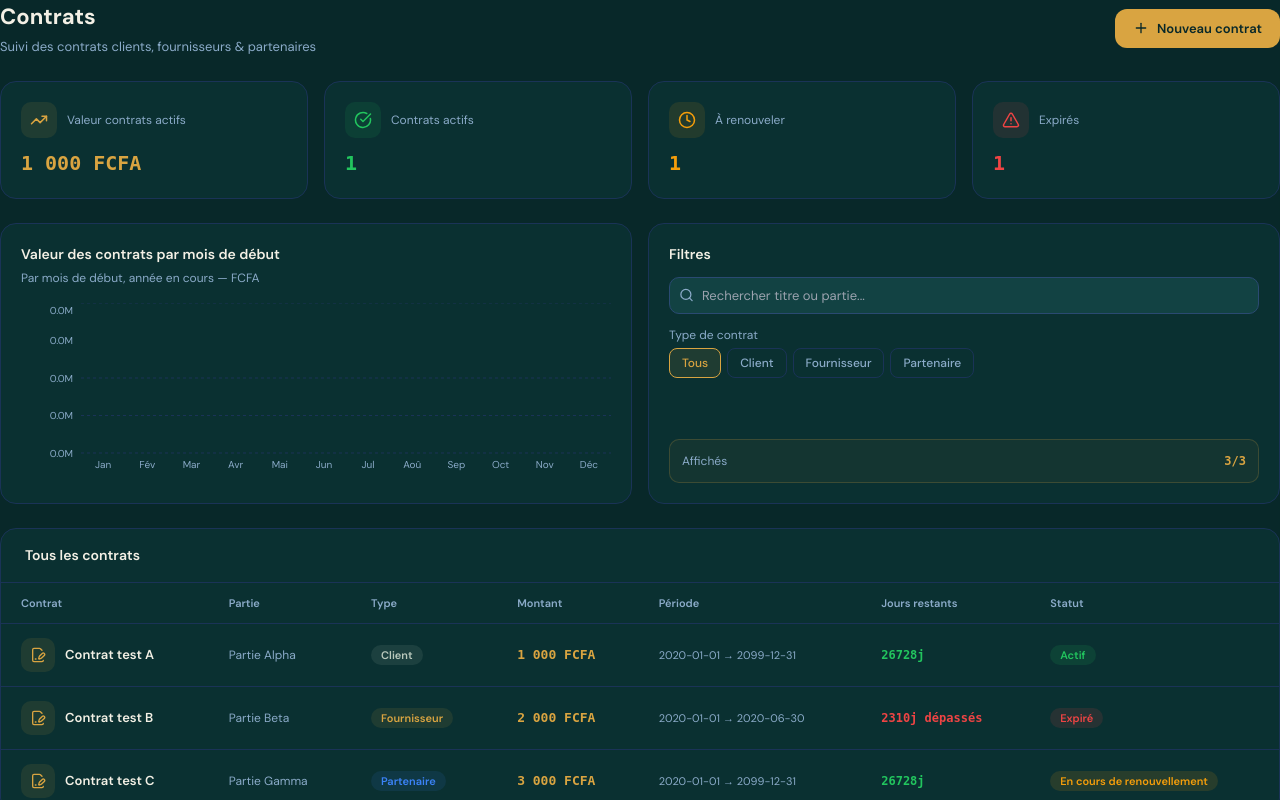
Test: ContratsPage › avec des contrats saisis › filtre par recherche
The image size is (1280, 800).
Expected: the text "Contrat test A" is shown, [65,645,154,665]
Type "gamma" into the field with placeholder "Rechercher titre ou partie..." at x=964, y=295, box [669,276,1259,314]
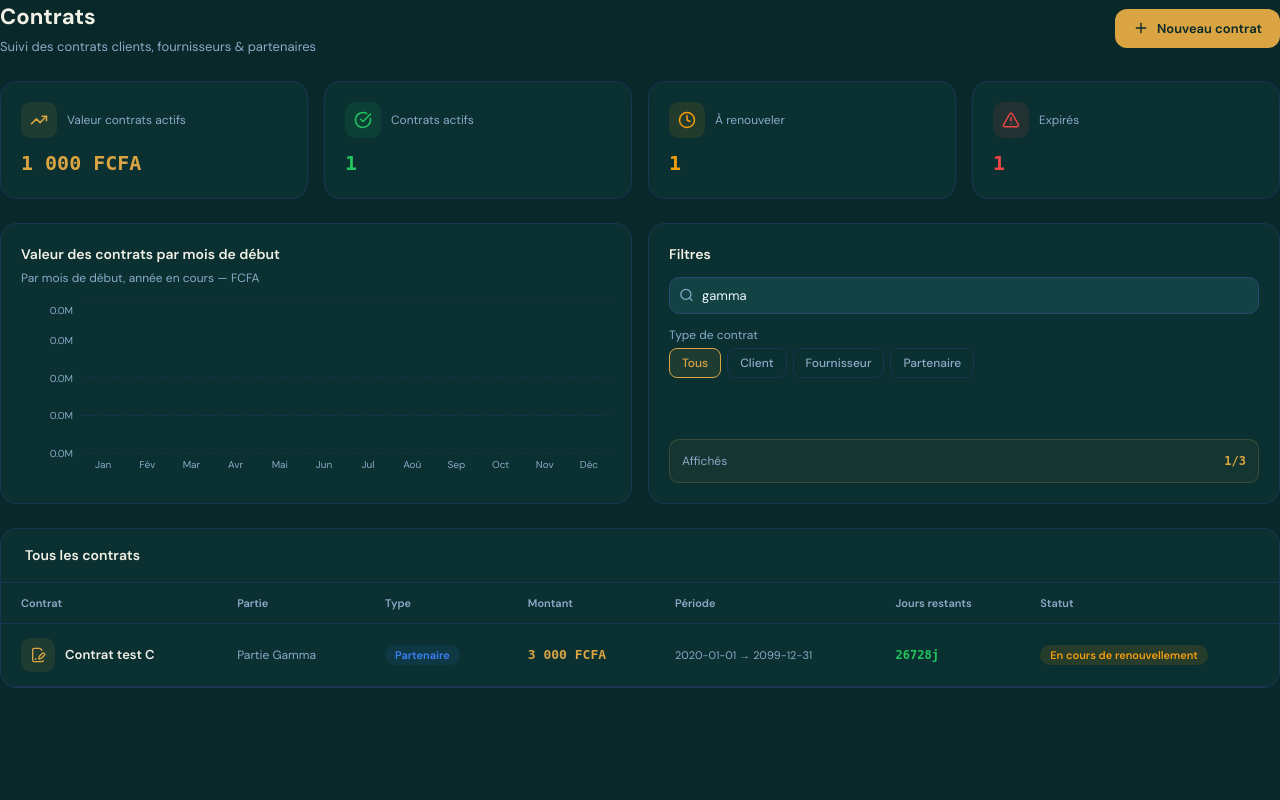
Expected: the text "Contrat test C" is shown, [65,645,155,665]
Result: the text "Contrat test A" is gone
